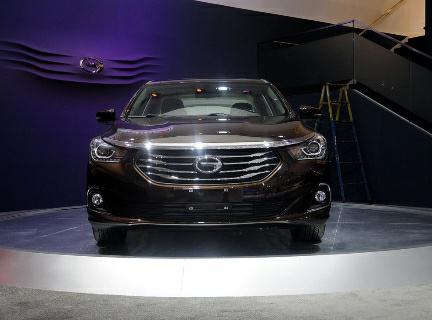广汽传祺-传祺GS3: (80, 69, 338, 247)
